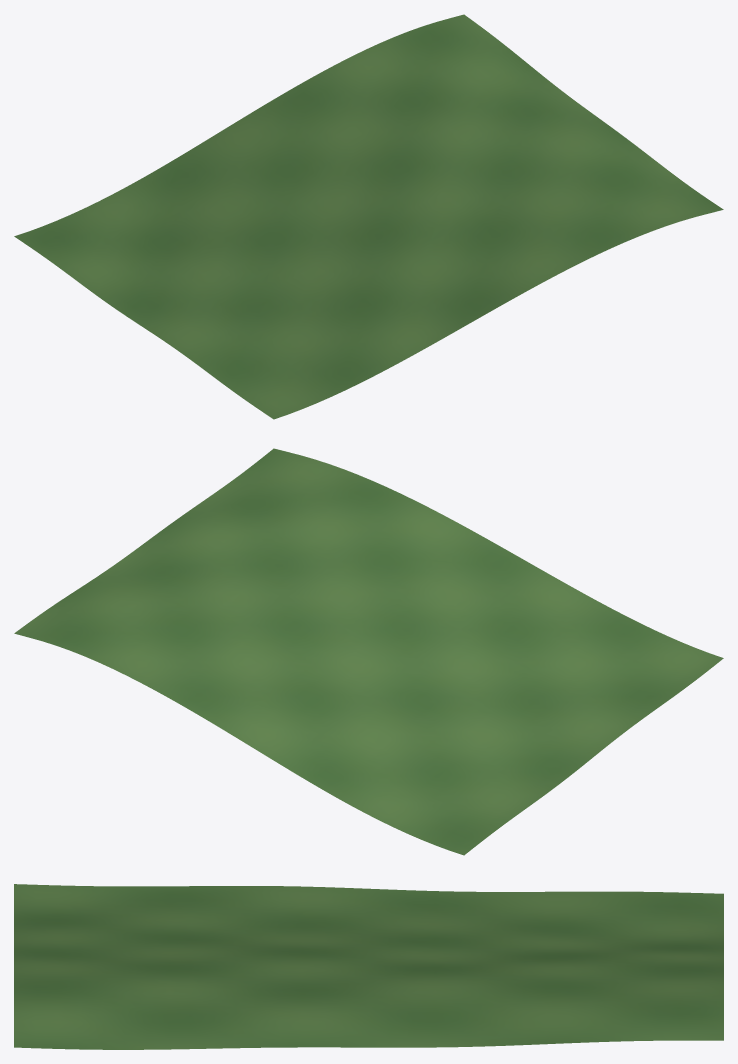
Rendered from chunk_12_9.glb.
3 renders of one model, top to bottom at view 1: azimuth 30°, elevation 25°; view 2: azimuth 150°, elevation 25°; view 3: azimuth 270°, elevation 25°, orthographic. The views are drawn at different scales.
Bounding box in the file's own units: 512 × 122 × 512.
